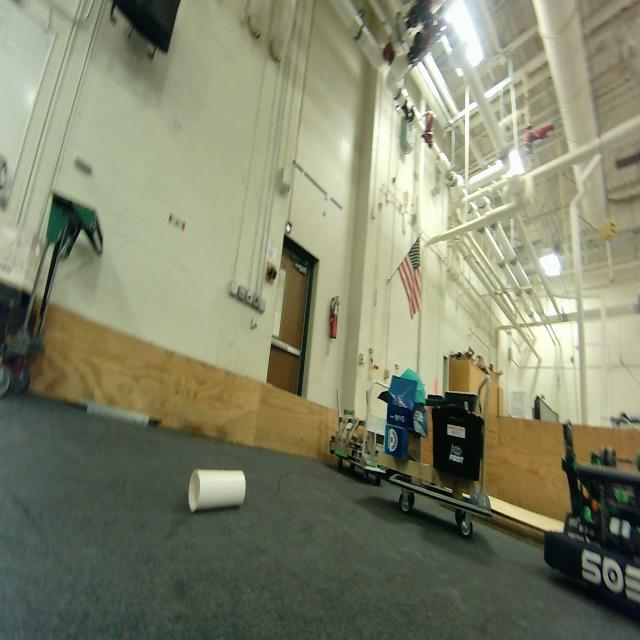coral: (188, 468, 246, 512)
